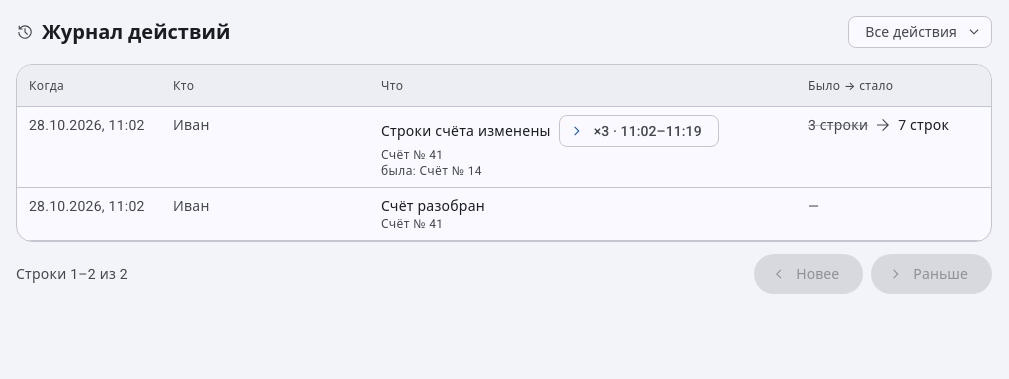
Scenario: журнал действий рядами › раскрытие показывает записи серии, каждую со своим «было → стало»
The width and height of the screenshot is (1009, 379).
Click the button named "показать записи" at point(639, 131), box 559,115 -> 719,147
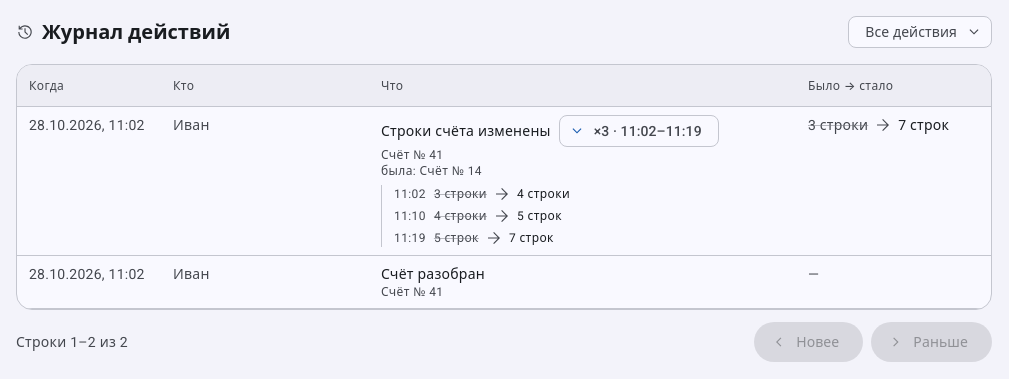
Check: the number of list items is 3, box 394,185 -> 570,203; 394,207 -> 562,225; 394,229 -> 554,247
Check: the 1st text "4 строки" is shown, box 517,186 -> 570,202
Check: the button named "свернуть записи" is expanded, box 559,115 -> 719,147
